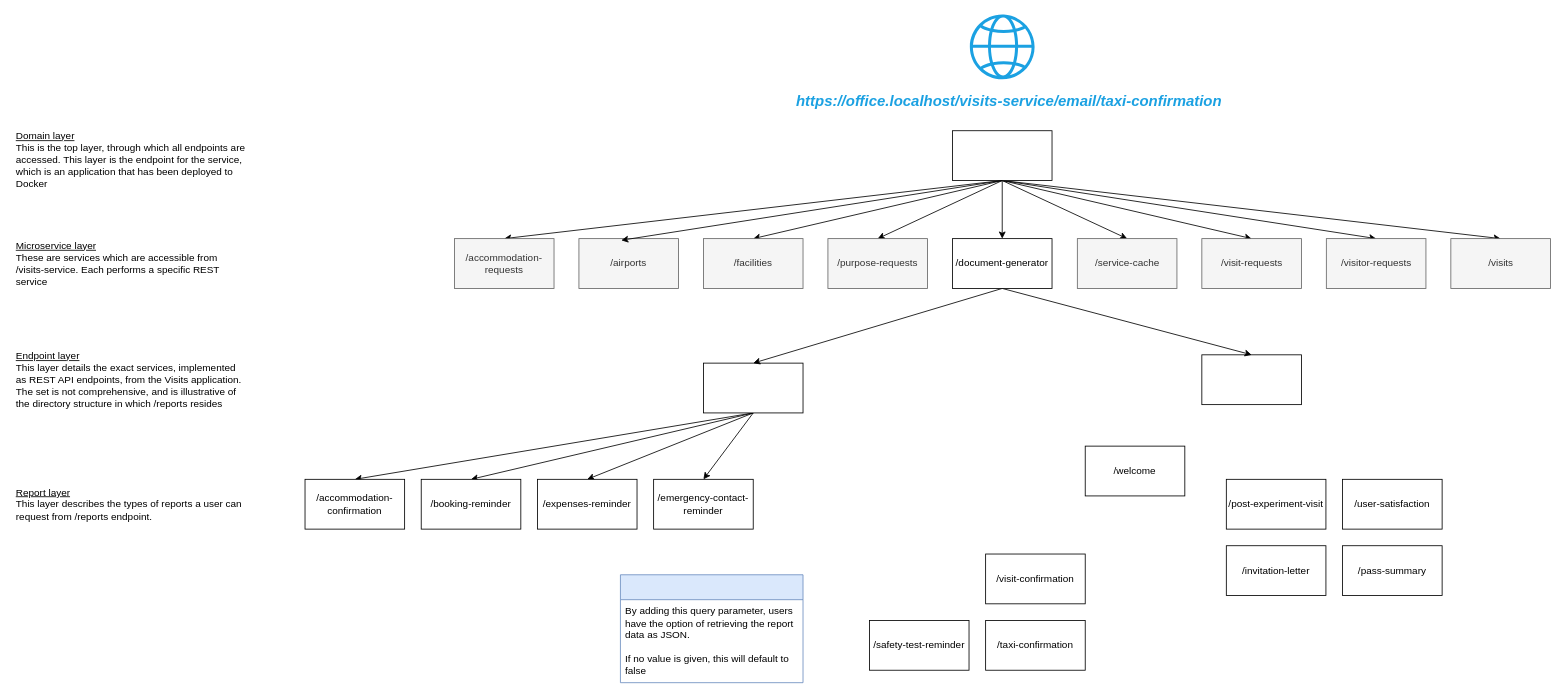
Some shapes in this 1565 by 697 pixel diagram are drawn without their labels. Here are the shapes that lost their labels. From the top down, the box of each, then its label:
(952, 130, 1052, 181): /visits-service
(703, 362, 803, 413): /email
(1201, 354, 1301, 405): /letter
(620, 574, 803, 683): ?raw=false
